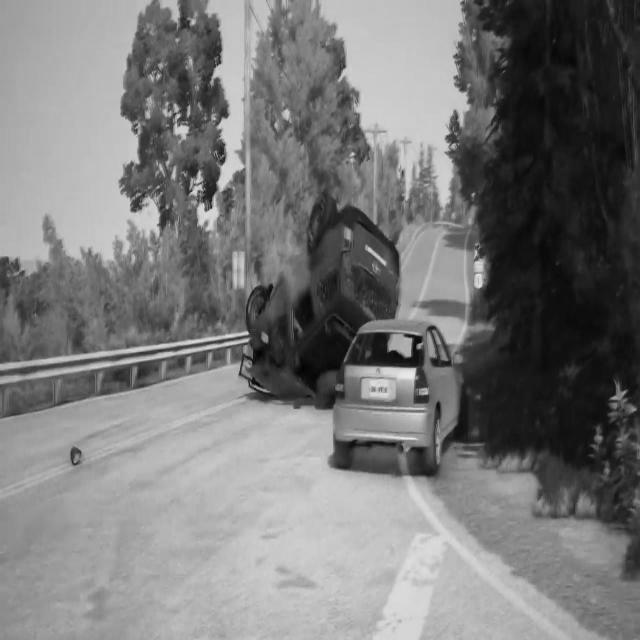accident: (239, 191, 407, 412)
vehicle: (331, 320, 471, 476)
